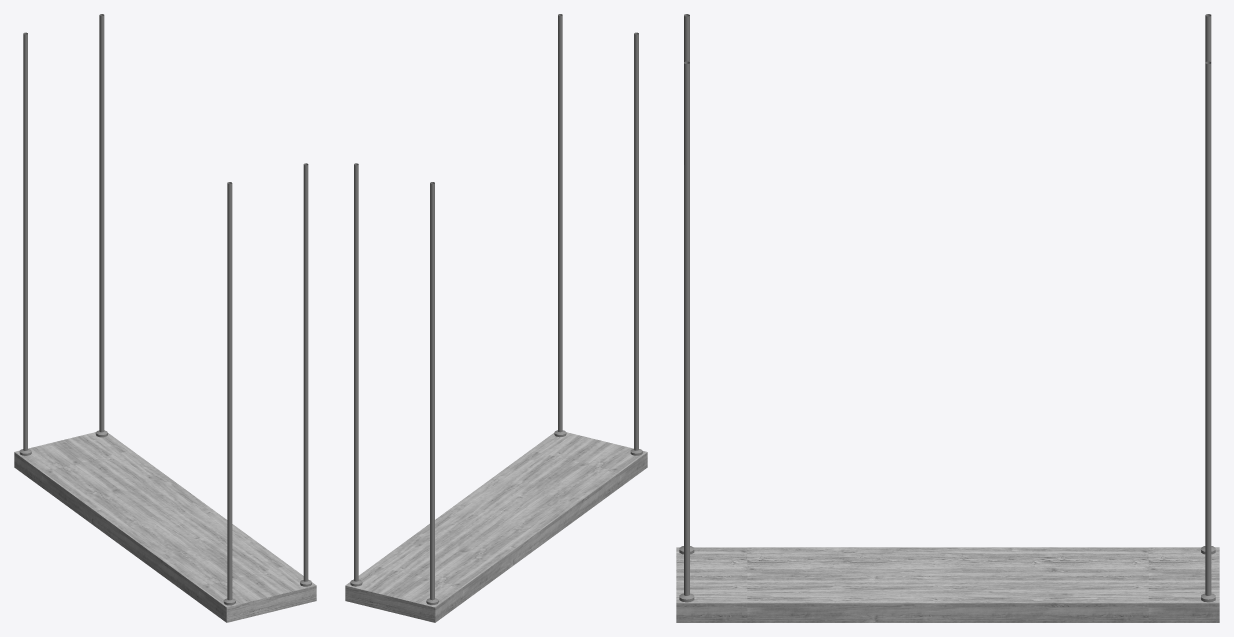
Rendered from Shelf_B.FBX.
3 renders of one model, left to right at view 1: azimuth 30°, elevation 25°; view 2: azimuth 150°, elevation 25°; view 3: azimuth 270°, elevation 25°, orthographic. The views are drawn at different scales.
Parts seen in each view (by area): view 1: Shelf_B; view 2: Shelf_B; view 3: Shelf_B.
Boxes of the visible parts, box(x1,y1,x2,y2) form: Shelf_B: box(14, 14, 316, 622); Shelf_B: box(345, 14, 647, 622); Shelf_B: box(676, 14, 1219, 622).
Bounding box in the file's own units: 0.8275 × 3.82 × 3.38.
2 materials, 1 textured.
